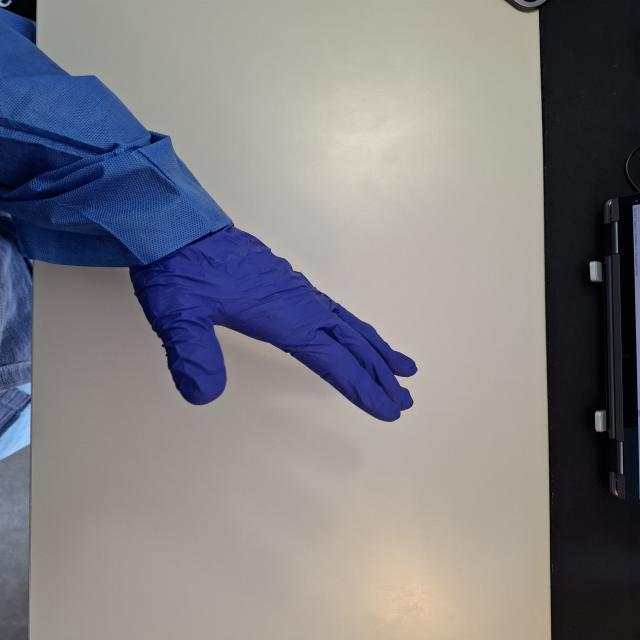glove_on: (126, 219, 422, 425)
